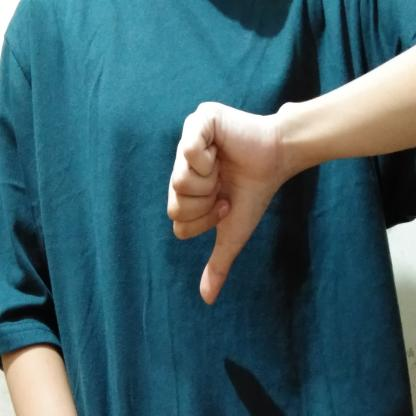no: (160, 95, 302, 313)
